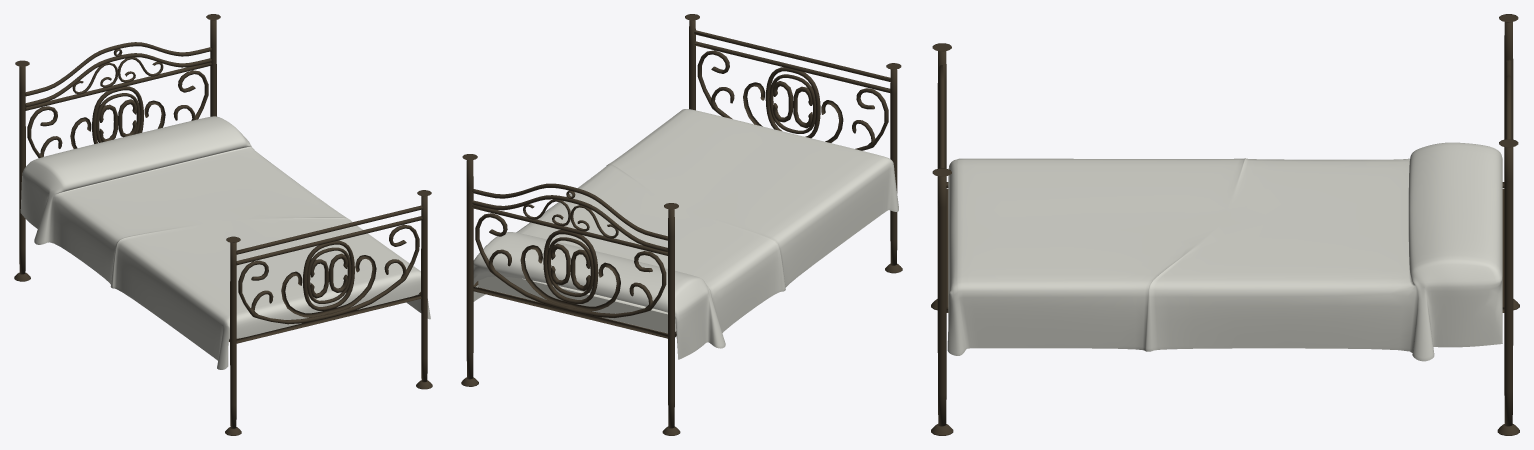
Rendered from sweethome3d-scopia-iron-bed.glb.
3 renders of one model, left to right at view 1: azimuth 30°, elevation 25°; view 2: azimuth 150°, elevation 25°; view 3: azimuth 270°, elevation 25°, orthographic. The views are drawn at different scales.
Visible parts, largest first — view 1: Colcha_Plane.003, bed_Cylinder.001; view 2: Colcha_Plane.003, bed_Cylinder.001, mattress_Cube; view 3: Colcha_Plane.003, bed_Cylinder.001.
Boxes of the visible parts, x1=… form: Colcha_Plane.003: x1=20, y1=116, x2=430, y2=369; bed_Cylinder.001: x1=14, y1=14, x2=432, y2=435; Colcha_Plane.003: x1=473, y1=109, x2=898, y2=359; bed_Cylinder.001: x1=461, y1=14, x2=902, y2=435; mattress_Cube: x1=478, y1=276, x2=676, y2=333; Colcha_Plane.003: x1=947, y1=142, x2=1502, y2=361; bed_Cylinder.001: x1=931, y1=14, x2=1519, y2=435.
Bounding box in the file's own units: 130 × 116 × 215.
